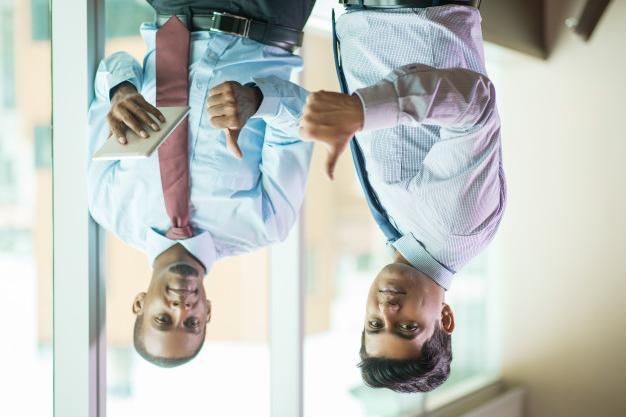thumbsdown: (297, 91, 341, 182), (206, 81, 243, 160)
